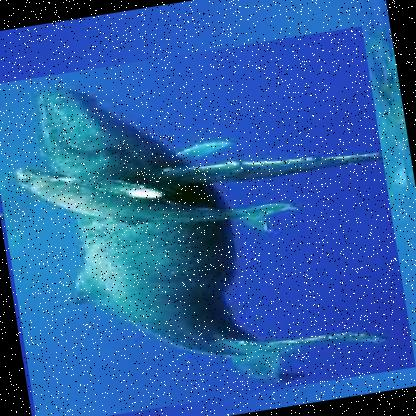blue_whale: (0, 26, 415, 415), (66, 106, 395, 260)
